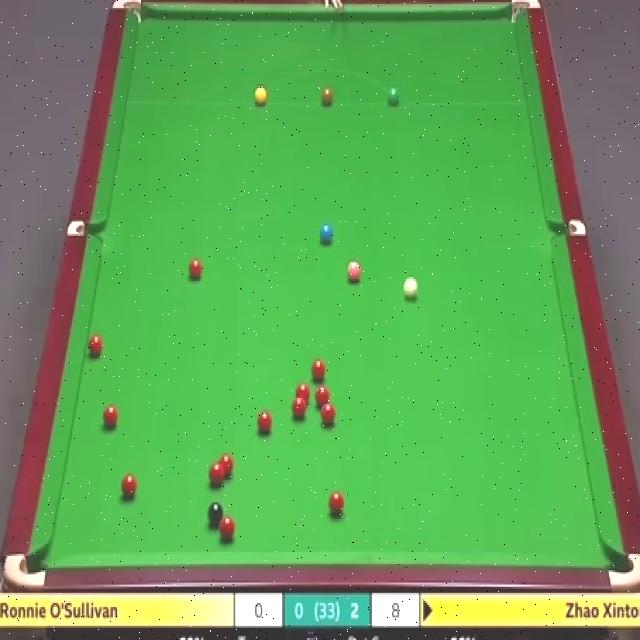black-ball: (208, 501, 225, 524)
blue-ball: (320, 222, 334, 248)
brown-ball: (320, 86, 334, 106)
green-ball: (386, 87, 399, 105)
pink-ball: (347, 262, 362, 285)
red-ball: (117, 472, 137, 499), (327, 488, 345, 518), (86, 334, 105, 361), (255, 408, 273, 436), (294, 380, 312, 406), (100, 402, 118, 428), (208, 461, 226, 486), (309, 359, 328, 381), (220, 454, 237, 477), (221, 516, 235, 542), (318, 388, 333, 412), (304, 394, 320, 415), (321, 402, 335, 423), (188, 260, 203, 279)
white-ball: (402, 276, 419, 301)
yellow-ball: (254, 86, 268, 106)
